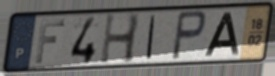4: (68, 14, 98, 65)
A: (203, 12, 241, 58)
F: (33, 18, 67, 65)
H: (98, 12, 143, 66)
I: (144, 14, 158, 61)
P: (169, 9, 208, 62)
